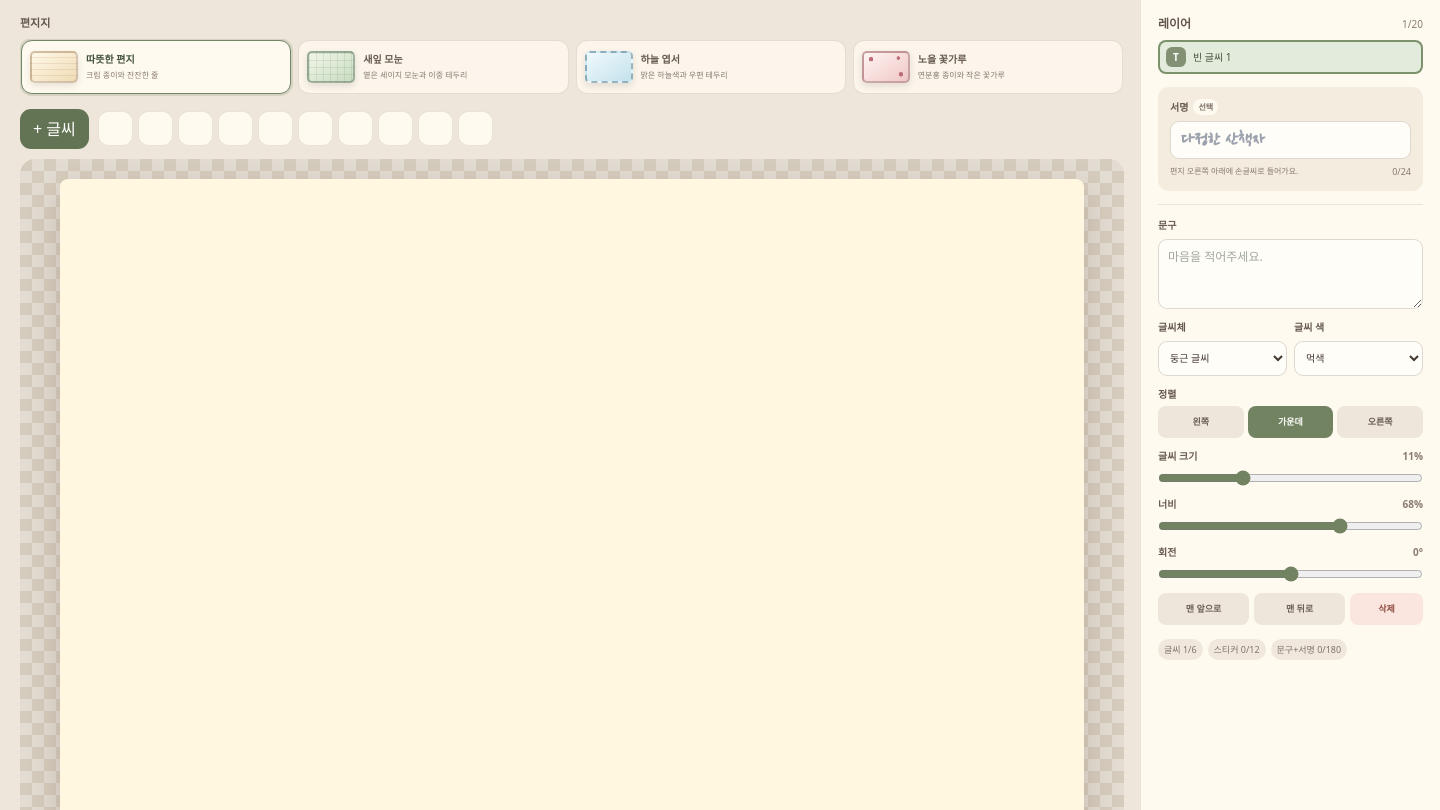
Scenario: guestbook letter editor › preserves Korean final consonants until signature IME composition ends
Type "윤지차ㄴ" into the field with placeholder "다정한 산책자" at (1290,140), box [1170,121,1411,159]
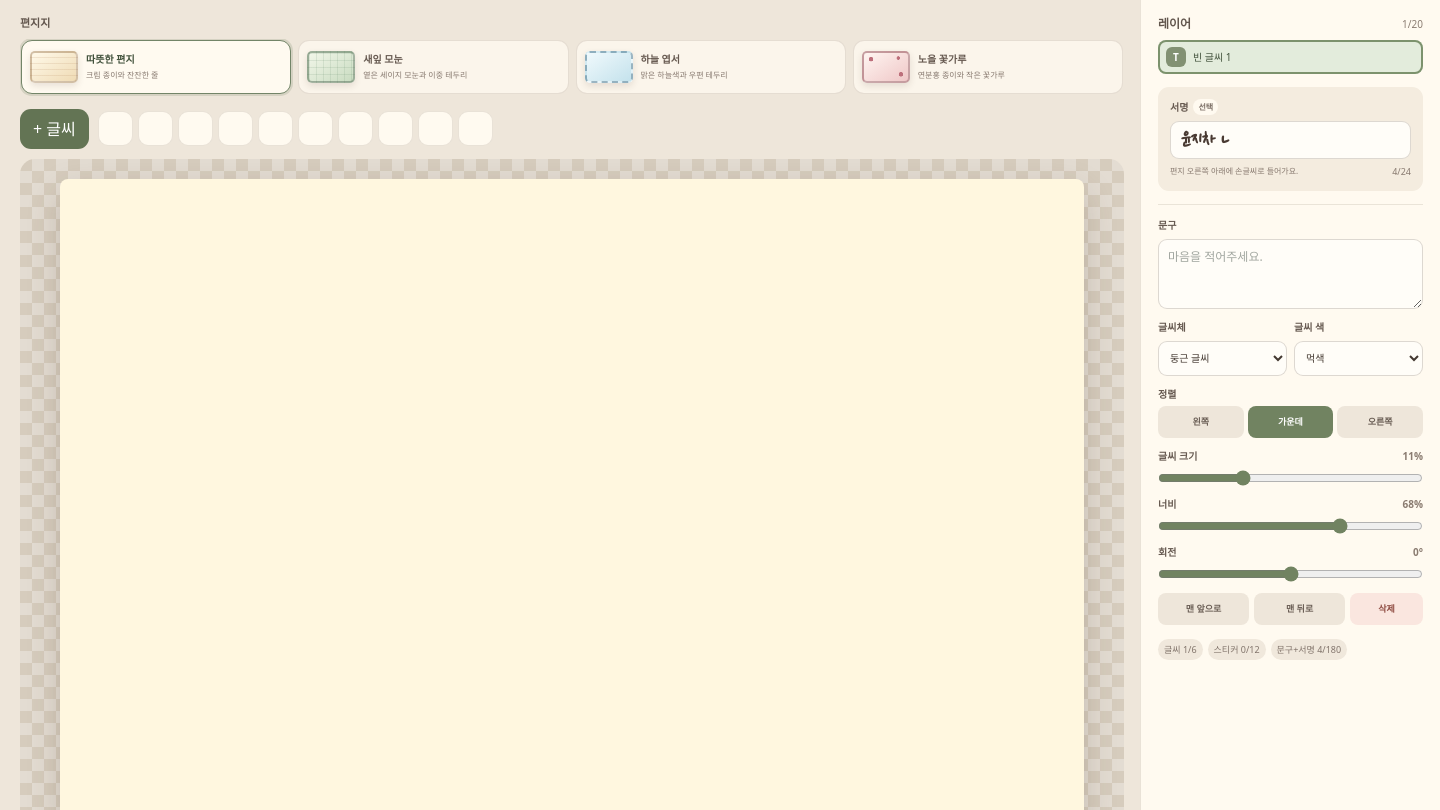
Replace the text in the field with placeholder "다정한 산책자" with "윤지찬" at (1290,140), box [1170,121,1411,159]
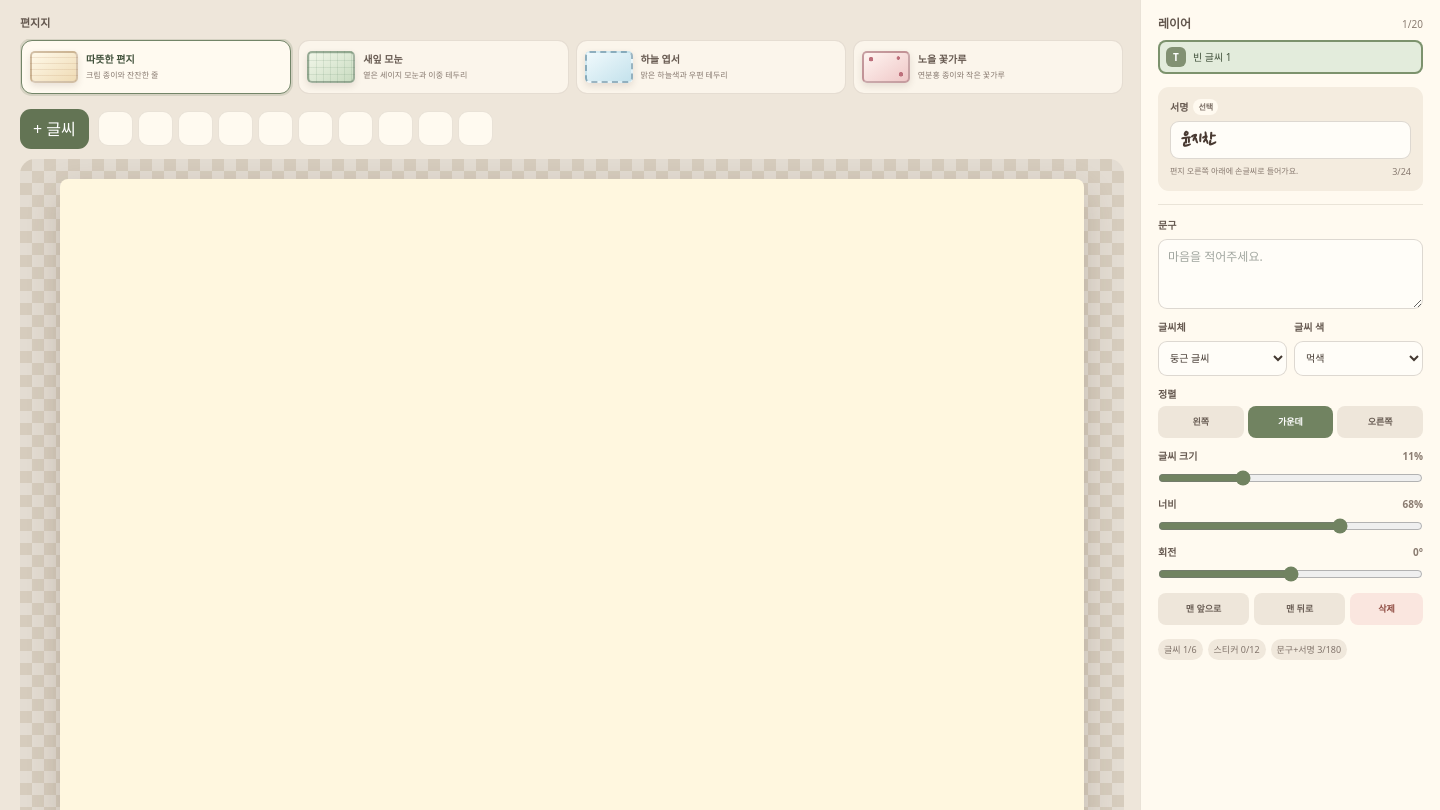
Check: the text "3/24" is shown, box [1392,165,1411,178]
